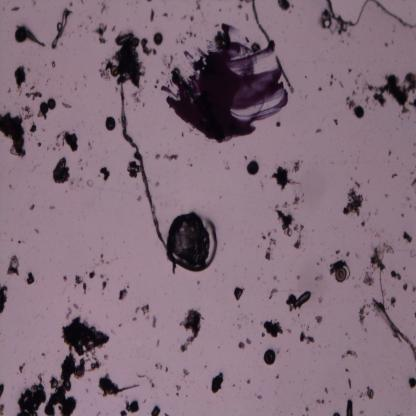Air bubble: (328, 0, 416, 40), (51, 9, 68, 49), (293, 290, 311, 309), (246, 159, 259, 178)
Background material: (166, 212, 217, 272), (361, 71, 416, 117), (102, 31, 144, 90), (59, 315, 111, 355), (44, 352, 76, 415), (274, 196, 304, 250), (0, 112, 29, 159), (15, 374, 47, 416), (178, 307, 203, 354), (99, 372, 141, 396), (271, 164, 301, 191), (344, 185, 365, 219), (52, 153, 71, 185), (259, 230, 277, 263), (54, 130, 79, 153), (369, 246, 388, 274), (260, 320, 284, 340), (356, 303, 374, 327), (13, 65, 27, 95), (140, 34, 157, 58), (119, 398, 140, 416), (28, 27, 46, 48), (5, 255, 21, 278), (126, 160, 142, 181), (212, 371, 226, 394), (161, 51, 176, 72), (93, 24, 108, 44), (73, 275, 87, 296), (0, 282, 9, 314), (235, 310, 249, 330), (136, 374, 155, 388), (98, 164, 112, 183), (13, 26, 28, 43), (285, 292, 297, 313), (298, 330, 314, 344), (278, 1, 294, 15), (96, 252, 110, 268), (329, 262, 349, 273), (68, 174, 82, 189), (237, 336, 251, 351), (340, 349, 357, 361), (62, 303, 73, 321), (345, 94, 356, 112), (134, 304, 150, 316), (161, 152, 180, 162), (321, 14, 332, 31), (25, 91, 42, 102), (88, 358, 101, 372), (362, 210, 372, 228), (233, 287, 245, 302), (352, 74, 360, 96), (365, 274, 376, 290), (23, 105, 34, 119), (154, 363, 169, 373), (402, 233, 414, 245), (346, 398, 354, 416), (390, 270, 402, 282), (24, 273, 35, 286), (268, 287, 278, 301), (354, 106, 365, 118), (384, 243, 394, 255), (98, 2, 108, 14), (118, 288, 128, 300), (29, 78, 38, 91), (292, 161, 301, 174), (389, 295, 398, 308), (221, 158, 229, 172), (408, 376, 416, 390), (72, 301, 83, 311), (11, 4, 22, 14), (61, 101, 72, 111), (29, 123, 38, 135), (151, 406, 161, 416), (315, 313, 323, 325), (18, 362, 26, 374), (366, 386, 374, 398), (408, 248, 416, 259), (0, 382, 5, 399), (329, 74, 336, 86), (332, 116, 339, 128), (153, 76, 159, 90), (274, 372, 282, 382), (332, 248, 342, 256), (246, 376, 254, 386), (86, 178, 94, 188), (347, 377, 353, 390), (100, 280, 107, 291), (402, 282, 409, 293), (316, 294, 324, 303), (0, 404, 6, 416), (382, 191, 390, 200), (410, 177, 416, 189), (316, 274, 324, 283), (152, 312, 156, 330), (341, 38, 350, 46), (78, 158, 84, 170), (150, 8, 155, 22), (183, 368, 190, 378), (272, 273, 279, 283), (16, 238, 26, 245), (154, 337, 160, 348), (45, 78, 53, 86), (316, 400, 324, 408), (284, 326, 292, 334), (5, 84, 12, 93), (342, 248, 349, 257), (176, 385, 181, 397), (30, 203, 36, 213), (112, 85, 120, 92), (390, 172, 398, 179), (354, 180, 361, 188), (86, 141, 92, 150), (111, 23, 117, 32), (317, 126, 322, 136), (89, 271, 96, 278), (344, 366, 350, 374), (304, 407, 310, 415), (103, 354, 109, 362), (344, 332, 350, 340), (338, 81, 344, 88), (295, 273, 301, 280), (73, 82, 77, 92), (388, 148, 392, 158), (48, 205, 56, 210), (260, 181, 264, 191), (277, 121, 281, 131), (157, 153, 162, 161), (382, 41, 388, 47), (255, 274, 261, 280), (257, 394, 263, 400), (76, 23, 82, 29), (88, 14, 92, 23), (305, 324, 310, 331), (411, 150, 416, 157), (117, 322, 121, 330), (80, 74, 88, 78), (324, 387, 328, 395), (332, 412, 340, 416), (195, 280, 201, 285), (231, 382, 236, 388), (37, 142, 42, 148), (347, 68, 352, 74), (405, 194, 410, 200), (163, 411, 169, 416), (8, 183, 12, 190), (52, 61, 56, 68), (162, 13, 169, 17), (317, 87, 322, 92), (411, 142, 416, 147), (132, 316, 136, 322), (413, 311, 416, 319), (144, 396, 147, 404), (10, 236, 14, 242), (413, 285, 416, 293), (408, 203, 412, 209), (204, 364, 208, 370), (357, 252, 361, 258), (27, 66, 30, 73), (64, 276, 67, 283), (316, 261, 321, 265), (400, 213, 404, 218), (68, 3, 73, 7), (367, 179, 371, 184), (34, 229, 38, 234), (34, 0, 37, 6), (296, 314, 300, 318), (244, 156, 248, 160), (80, 0, 84, 4), (402, 266, 406, 270), (147, 0, 152, 3), (304, 74, 307, 79), (410, 171, 414, 174), (396, 127, 399, 130), (166, 393, 168, 396), (45, 64, 46, 66)
Cellulose filter fibre: (118, 86, 166, 250), (373, 252, 416, 362)
Diatom: (263, 347, 276, 366), (335, 266, 347, 284), (104, 115, 116, 132), (38, 100, 48, 115), (75, 364, 85, 379), (153, 31, 163, 45), (47, 97, 57, 110), (110, 64, 119, 78)
Pen: (159, 20, 290, 146)
